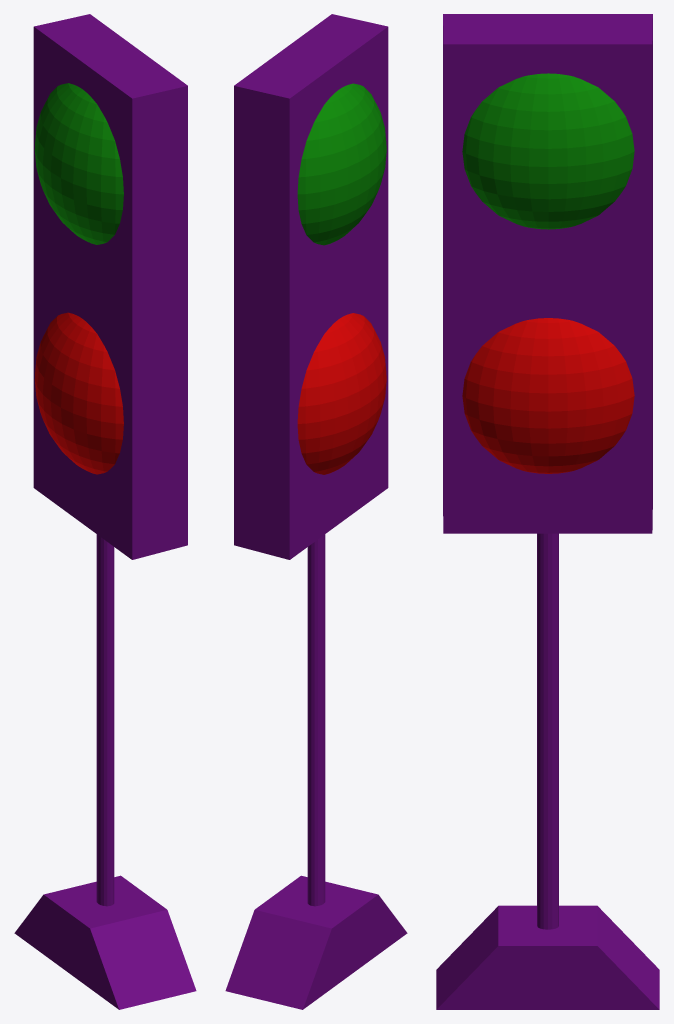
File: semaforo.obj
3 renders of one model, left to right at view 1: azimuth 30°, elevation 25°; view 2: azimuth 150°, elevation 25°; view 3: azimuth 270°, elevation 25°, orthographic. The views are drawn at different scales.
Visible parts, largest first — view 1: Cube; view 2: Cube; view 3: Cube.
Part boxes in pixels (box(x1,y1,x2,y2)): Cube: box(14, 14, 196, 1009); Cube: box(225, 14, 407, 1009); Cube: box(436, 14, 659, 1009).
Bounding box in the file's own units: 0.1269 × 0.9285 × 0.195.
